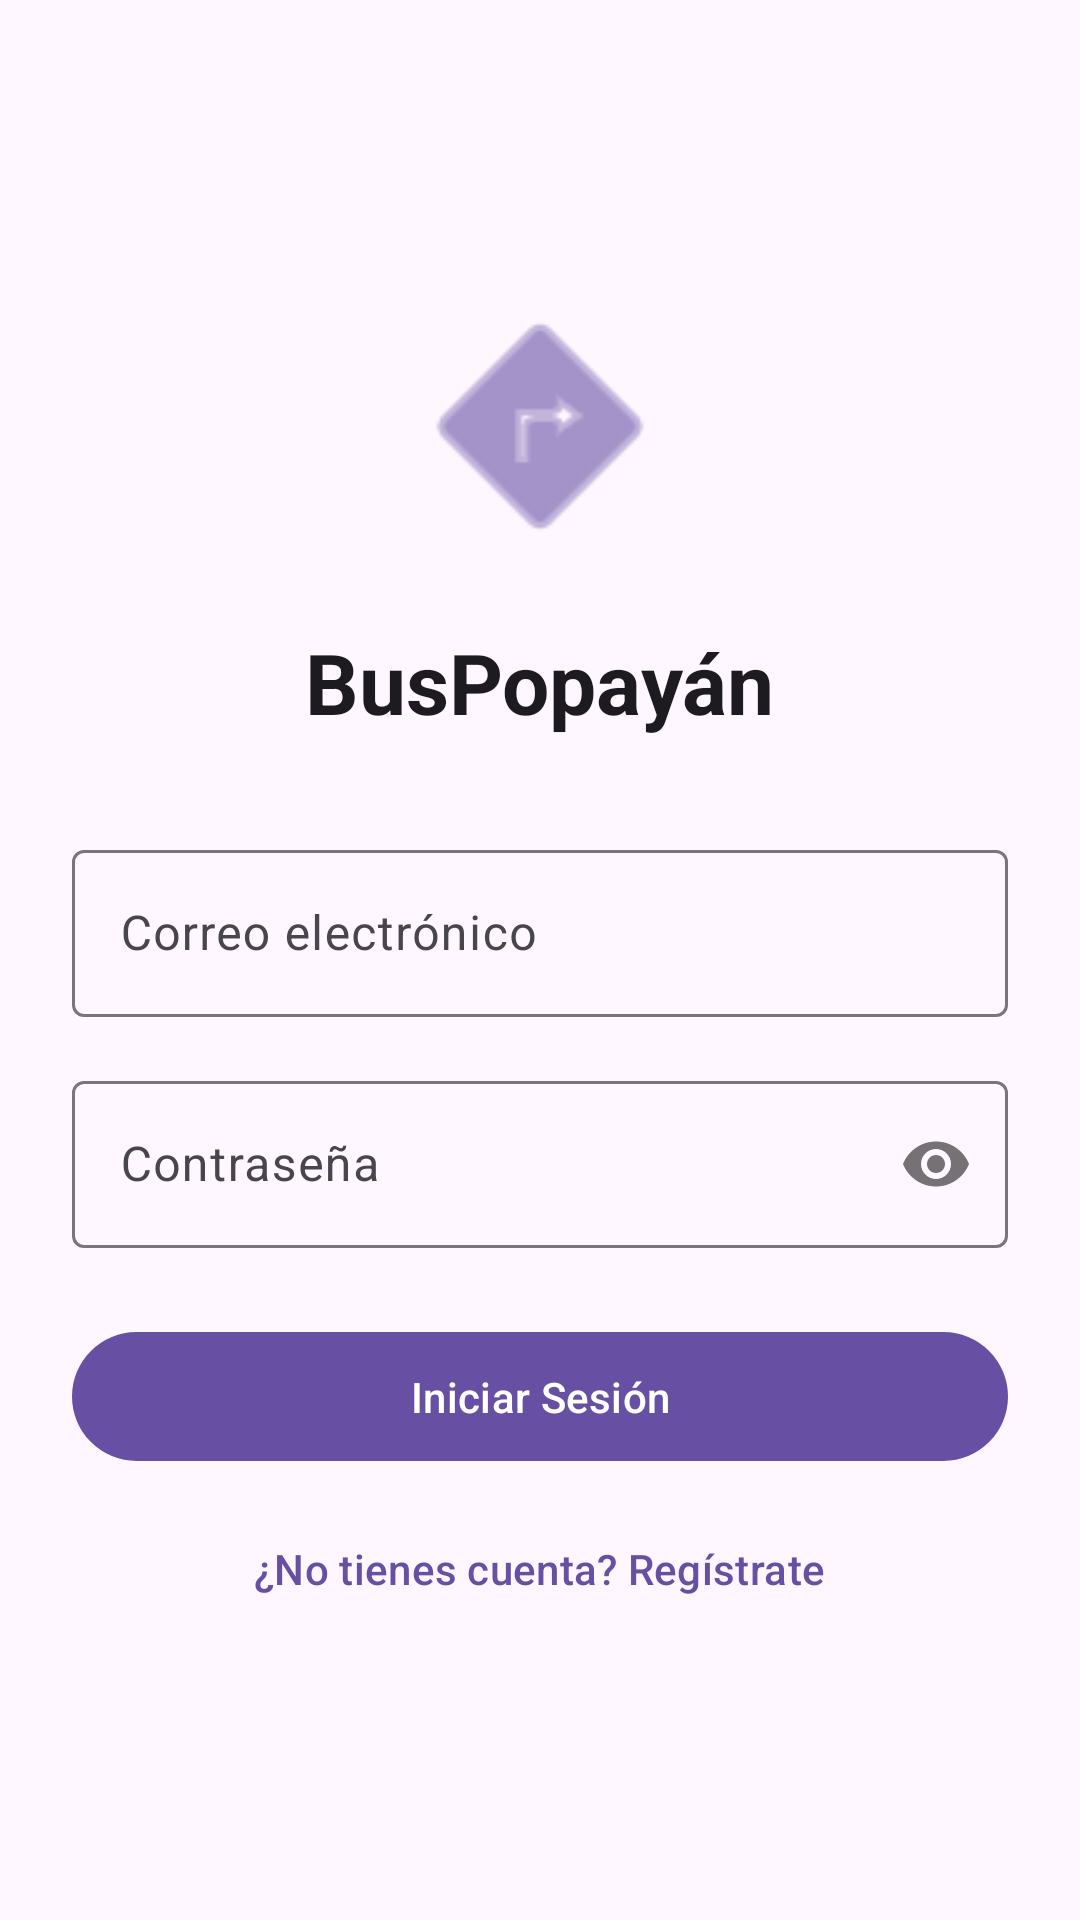

Icons on this 1080x1920 Android screen, each with its box as bbox(x1, y1, x2, y2):
directions: bbox(437, 324, 643, 529)
